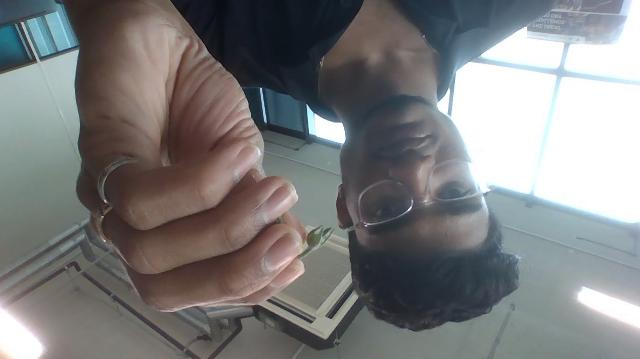Fruit Bud: (296, 224, 333, 259)
